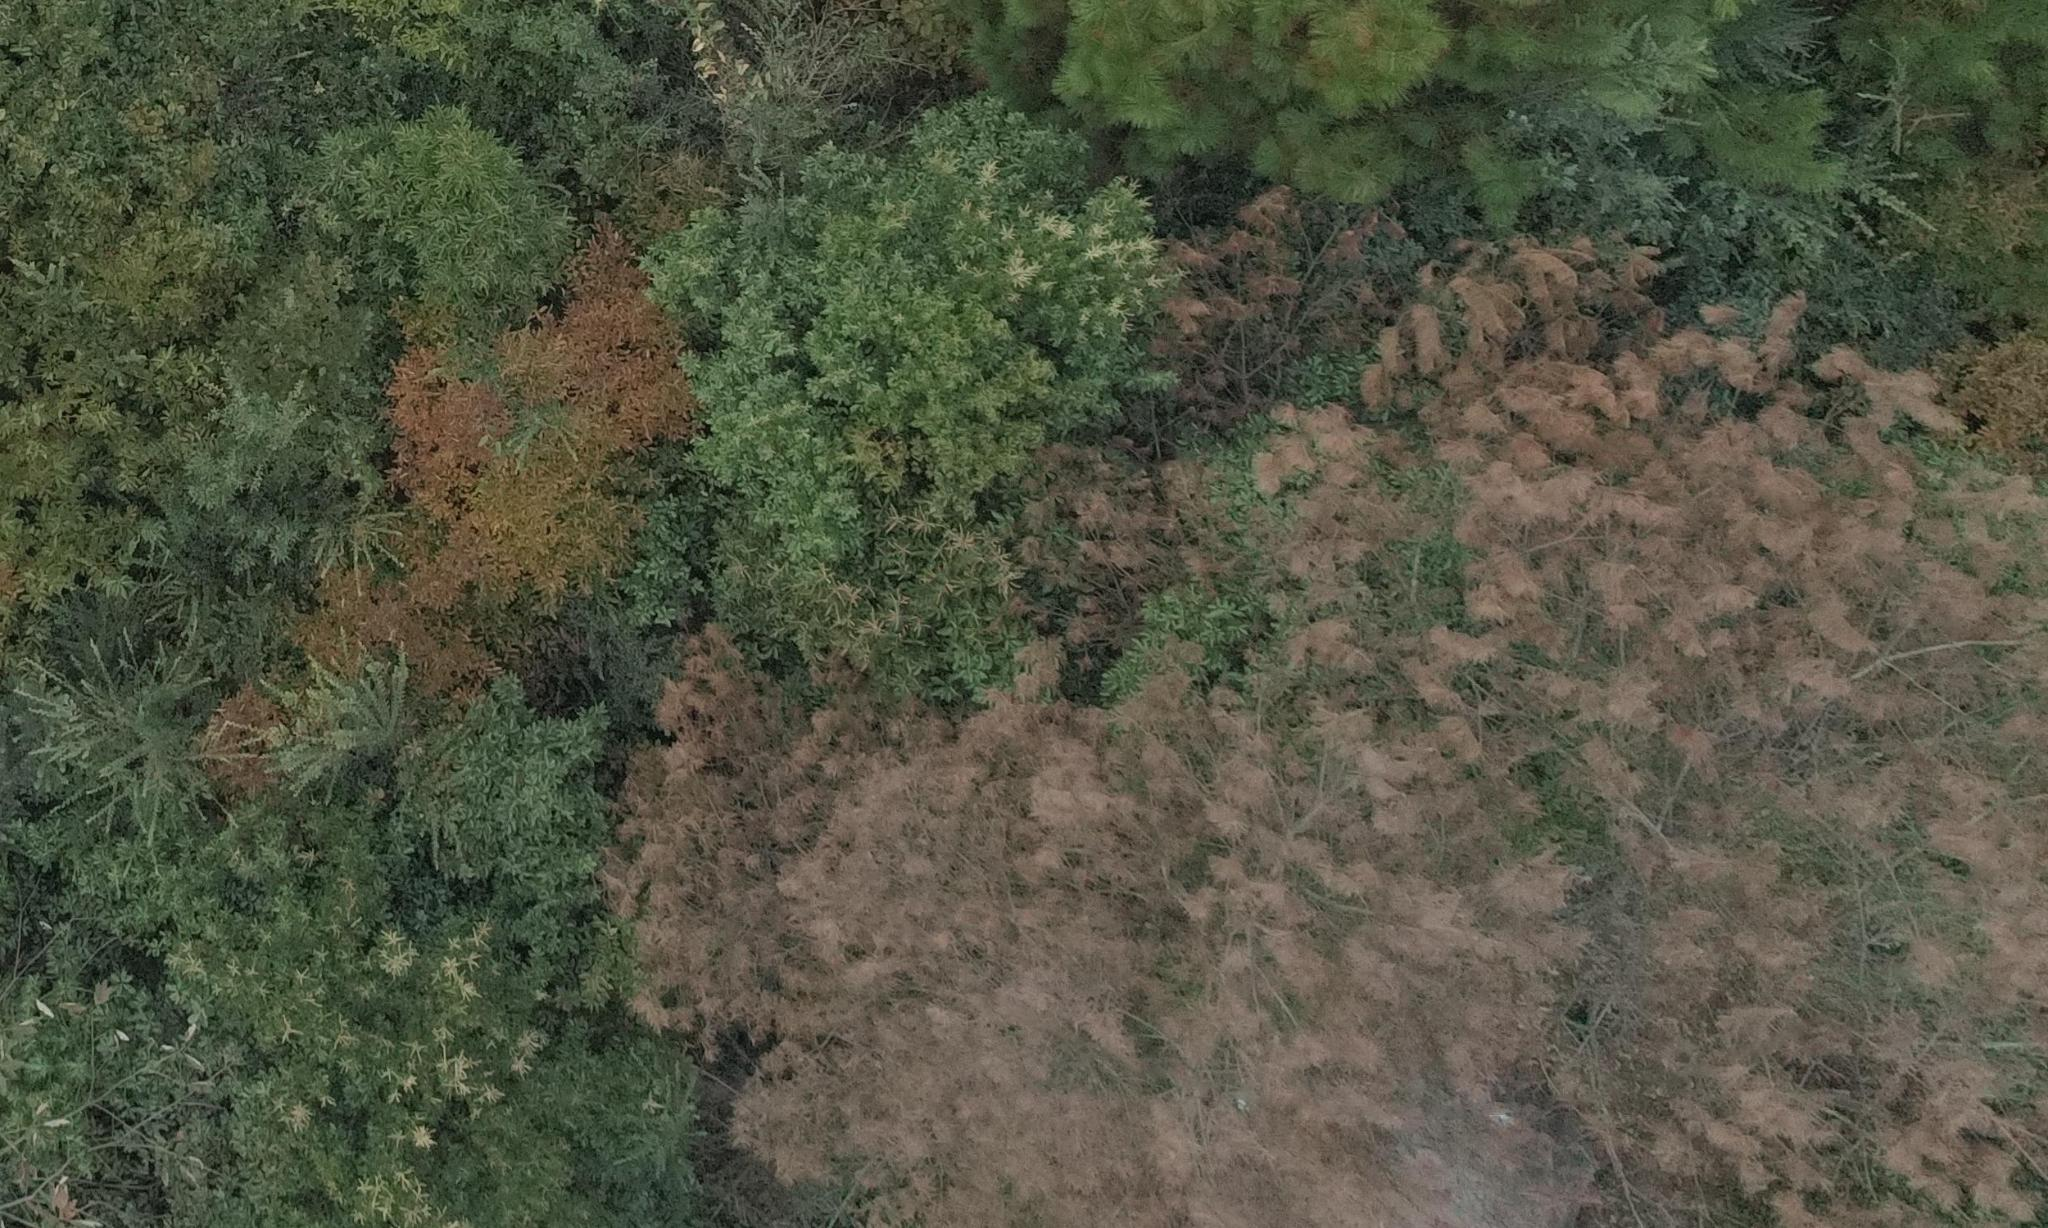heavy: (1276, 240, 2029, 1208), (604, 627, 1260, 1210)
